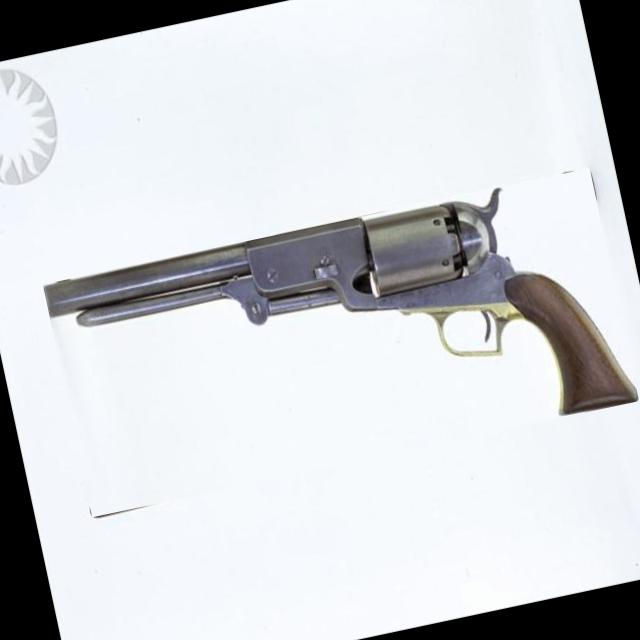Gun: (44, 190, 637, 413)
